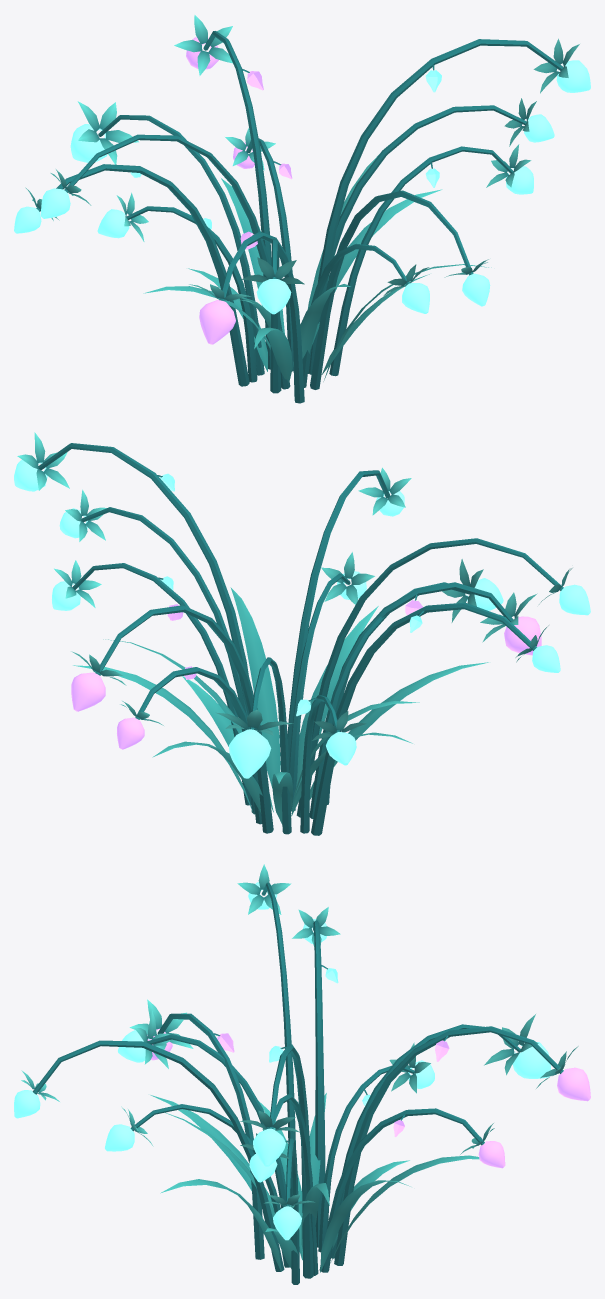
The model's file is glow_reed_lod0.glb.
3 renders of one model, top to bottom at view 1: azimuth 30°, elevation 25°; view 2: azimuth 150°, elevation 25°; view 3: azimuth 270°, elevation 25°, orthographic. The views are drawn at different scales.
Visible parts, largest first — view 1: GlowReed; view 2: GlowReed; view 3: GlowReed.
Part boxes in pixels (x1,y1,x2,y2): GlowReed: [14, 15, 590, 403]; GlowReed: [14, 432, 590, 835]; GlowReed: [14, 864, 590, 1284].
Size of the model in its own units: 2.62 by 1.39 by 2.45.
